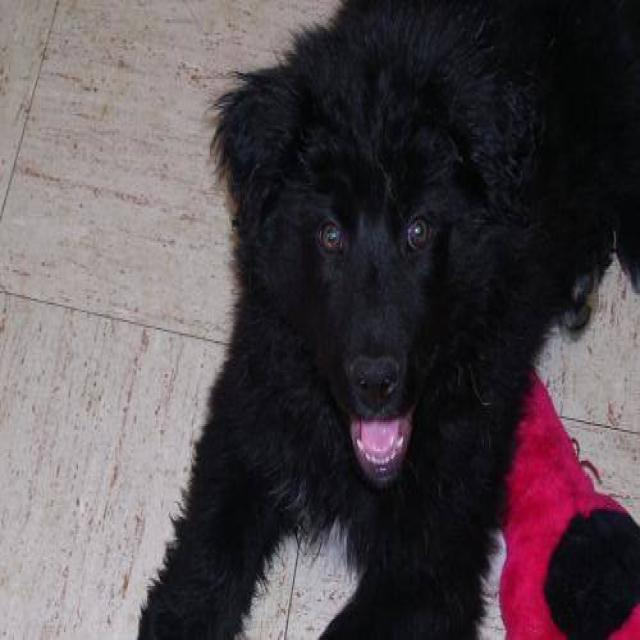dog: (129, 0, 639, 638)
